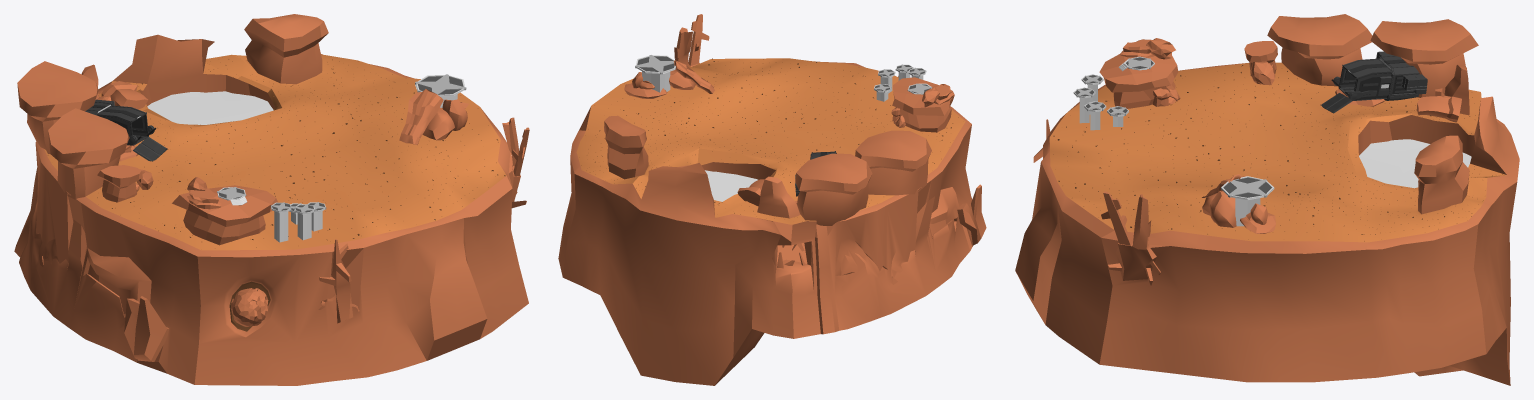
Rendered from Mapa2.fbx.
3 views of the same model, side by side, from view 1: azimuth 30°, elevation 25°; view 2: azimuth 150°, elevation 25°; view 3: azimuth 270°, elevation 25° (orthographic). The views are drawn at different scales.
Parts seen in each view (by area): view 1: Base mapa, Pilar roca.004, Pilar roca.007, Pilar roca.001, Nave, Roca larga, Pilar roca, Meteorito, Torre, Pilar roca.005, Roca.008, Torre.003 (+4 smaller); view 2: Base mapa, Pilar roca.007, Pilar roca.004, Pilar roca.001, Torre, Roca larga, Pilar roca.005, Roca.009; view 3: Base mapa, Pilar roca.004, Pilar roca.007, Nave, Pilar roca.001, Torre, Pilar roca.005, Roca, Pilar roca, Roca.004, Pilar roca.003, Torre.002 (+2 smaller).
Boxes of the visible parts, <box> form: Base mapa: <box>14,14,529,385</box>; Pilar roca.004: <box>48,108,129,199</box>; Pilar roca.007: <box>17,61,98,153</box>; Pilar roca.001: <box>172,185,277,245</box>; Nave: <box>85,99,156,145</box>; Roca larga: <box>399,89,443,144</box>; Pilar roca: <box>97,165,142,202</box>; Meteorito: <box>230,288,268,326</box>; Torre: <box>415,74,466,107</box>; Pilar roca.005: <box>101,81,147,109</box>; Roca.008: <box>422,107,454,140</box>; Torre.003: <box>271,202,291,242</box>; Base mapa: <box>558,14,986,385</box>; Pilar roca.007: <box>795,153,872,225</box>; Pilar roca.004: <box>855,130,931,195</box>; Pilar roca.001: <box>892,77,954,132</box>; Torre: <box>635,55,675,96</box>; Roca larga: <box>673,60,714,93</box>; Pilar roca.005: <box>737,179,764,206</box>; Roca.009: <box>624,83,667,98</box>; Base mapa: <box>1015,62,1519,385</box>; Pilar roca.004: <box>1267,14,1372,86</box>; Pilar roca.007: <box>1370,19,1478,97</box>; Nave: <box>1331,51,1427,100</box>; Pilar roca.001: <box>1099,54,1178,108</box>; Torre: <box>1221,176,1274,226</box>; Pilar roca.005: <box>1416,96,1461,122</box>; Roca: <box>1210,191,1236,227</box>; Pilar roca: <box>1244,41,1277,76</box>; Roca.004: <box>1250,61,1274,85</box>; Pilar roca.003: <box>1119,39,1154,57</box>; Torre.002: <box>1073,87,1095,123</box>.
Bounding box in the file's own units: 16240 × 10442 × 17310.
